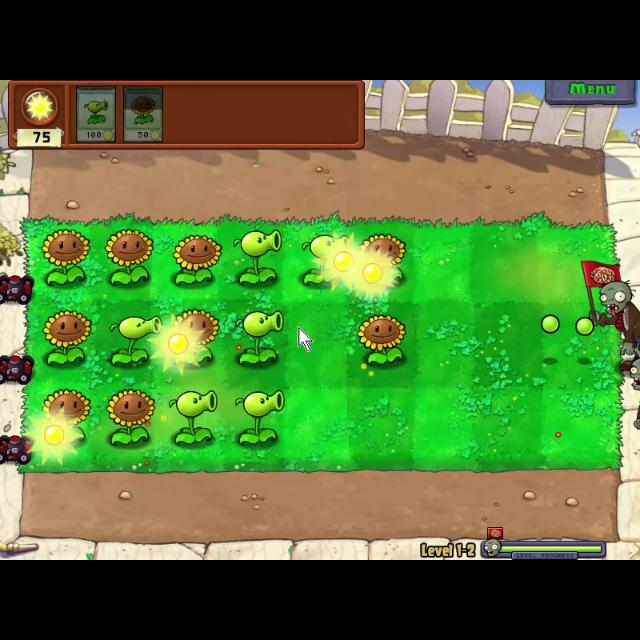Flag Zombie: (578, 258, 640, 369)
Garden: (19, 216, 623, 474)
Menu Button: (545, 80, 635, 104)
Mower: (0, 271, 34, 307), (1, 351, 34, 385), (1, 434, 36, 466)
Peashooter: (75, 85, 117, 145)
Peashooter Seed: (106, 311, 166, 371), (229, 387, 285, 448), (234, 304, 286, 368), (232, 228, 284, 286), (168, 390, 220, 448), (300, 230, 350, 288)
Seed Panel: (7, 80, 369, 152)
Sun: (25, 409, 81, 465), (153, 321, 201, 369), (352, 252, 393, 298), (322, 243, 366, 283)
Sunflower: (124, 82, 164, 144)
Sunflower Seed: (104, 384, 158, 448), (37, 226, 89, 286), (104, 226, 154, 288), (40, 306, 89, 368), (354, 312, 406, 368), (171, 232, 223, 286), (356, 232, 408, 268), (39, 386, 91, 420), (168, 309, 222, 341)
Zombie: (628, 358, 640, 432)
